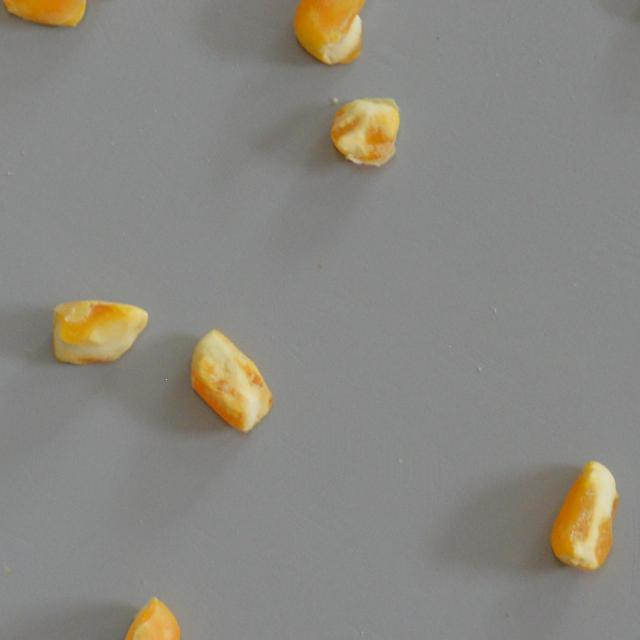estandar: (548, 459, 618, 570)
pelicula: (189, 328, 274, 434), (50, 299, 149, 365), (326, 95, 400, 170), (292, 0, 372, 67), (110, 594, 182, 640), (0, 0, 88, 30)
